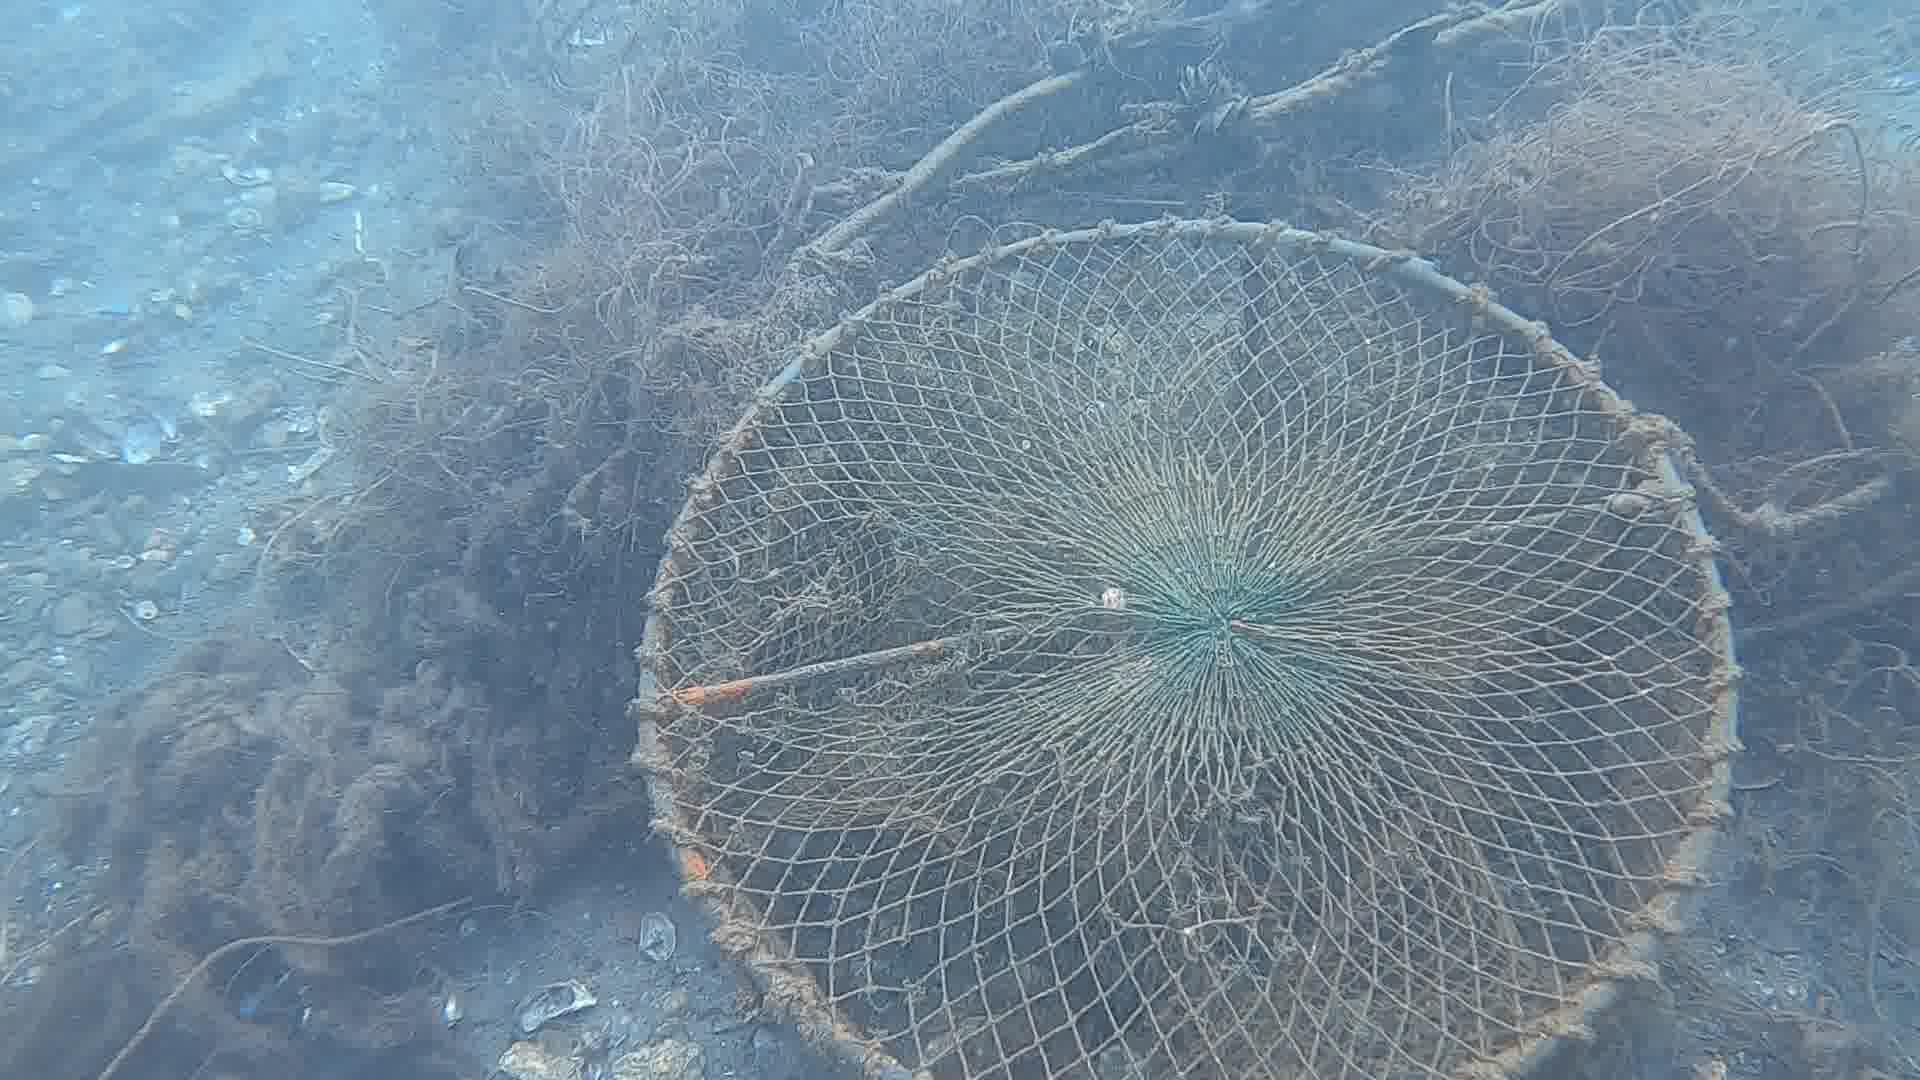circular fish trap: (624, 211, 1749, 1080)
